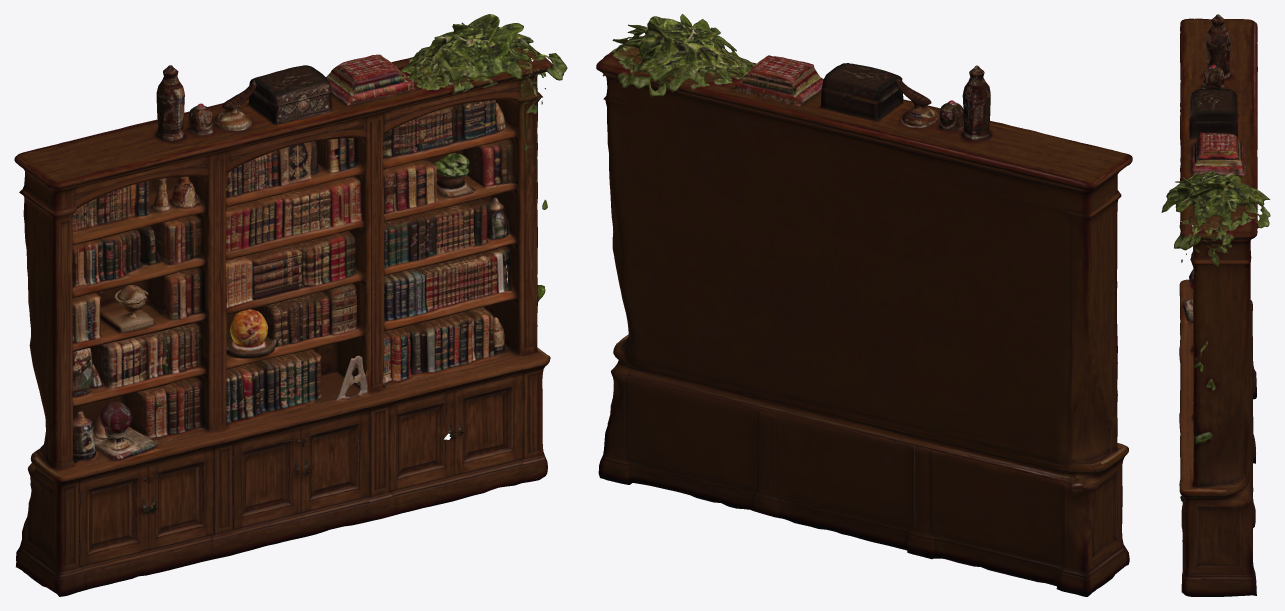
Rendered from wooden-bookshelf.glb.
3 views of the same model, side by side, from view 1: azimuth 30°, elevation 25°; view 2: azimuth 150°, elevation 25°; view 3: azimuth 270°, elevation 25° (orthographic). The views are drawn at different scales.
Visible parts, largest first — view 1: tripo_node_f193642e; view 2: tripo_node_f193642e; view 3: tripo_node_f193642e.
Part boxes in pixels (box(x1,y1,x2,y2)): tripo_node_f193642e: box(14, 14, 567, 596); tripo_node_f193642e: box(596, 14, 1132, 596); tripo_node_f193642e: box(1161, 14, 1270, 596).
Size of the model in its own units: 97.26 by 87.32 by 20.15.
Materials: 1 (1 with a texture image).
